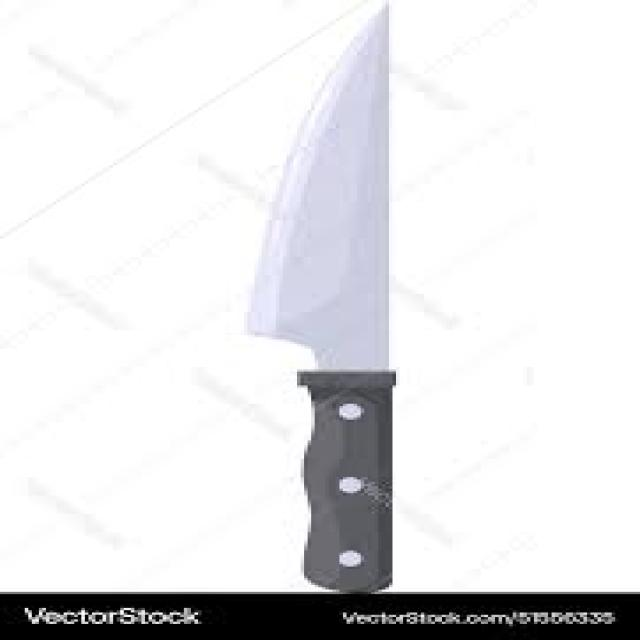Knife: (244, 0, 392, 592)
